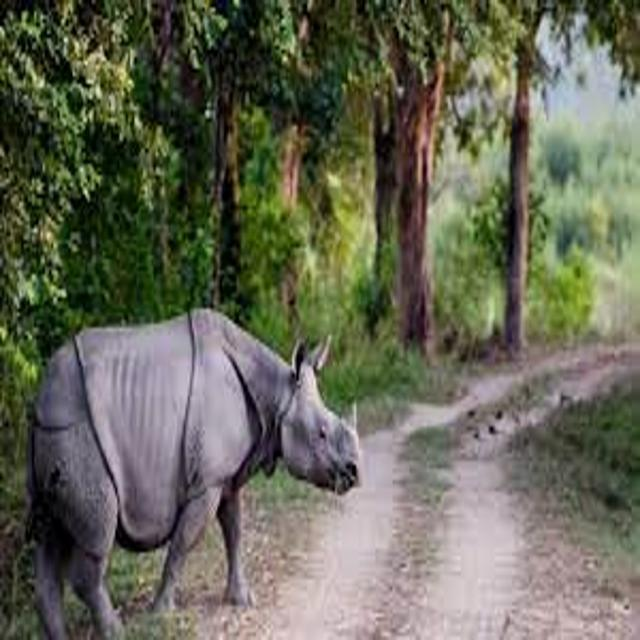Rinoceros: (16, 295, 392, 640)
